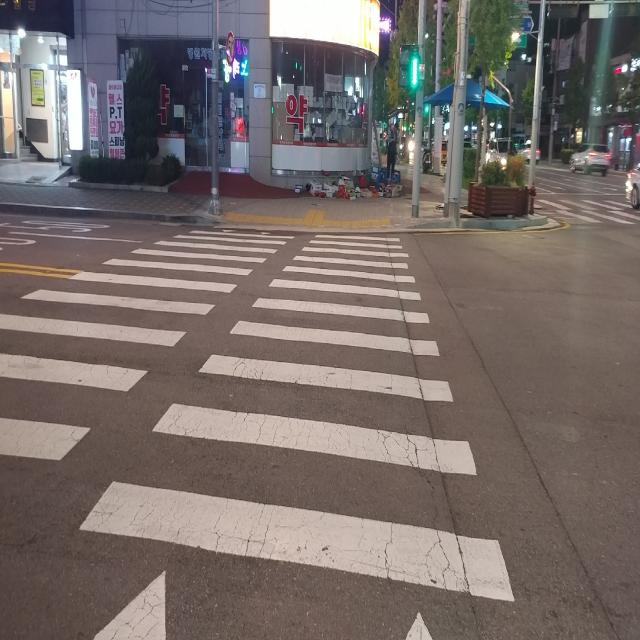초록불: (400, 47, 417, 88)
횡단보도: (0, 228, 515, 640), (539, 194, 627, 220)
